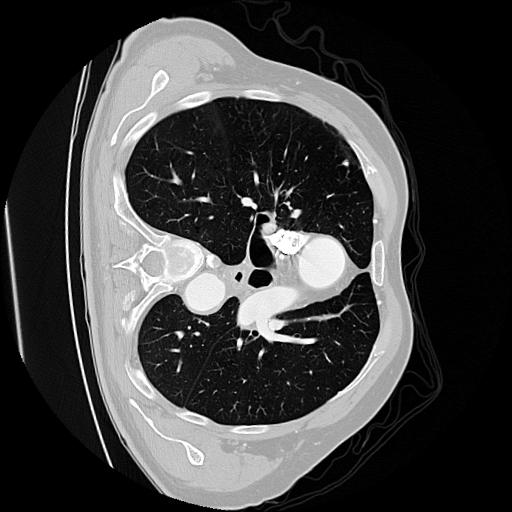nodule: (341, 157, 354, 170)
